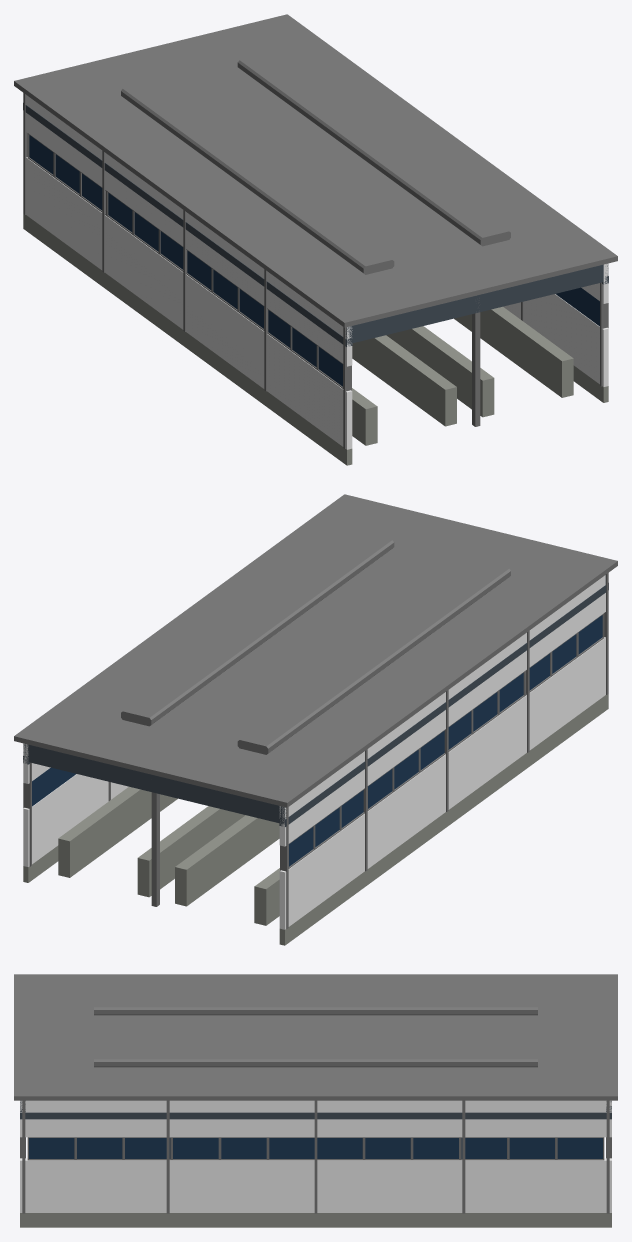
The model's file is yard_shed_close.fbx.
3 renders of one model, top to bottom at view 1: azimuth 30°, elevation 25°; view 2: azimuth 150°, elevation 25°; view 3: azimuth 270°, elevation 25°, orthographic. The views are drawn at different scales.
Parts seen in each view (by area): view 1: a1064/0/yard_shed.001; view 2: a1064/0/yard_shed.001; view 3: a1064/0/yard_shed.001.
Boxes of the visible parts, box(x1,y1,x2,y2) form: a1064/0/yard_shed.001: box(14, 14, 617, 465); a1064/0/yard_shed.001: box(14, 494, 617, 945); a1064/0/yard_shed.001: box(14, 974, 617, 1227).
Size of the model in its own units: 11.7 by 6.35 by 24.5.
